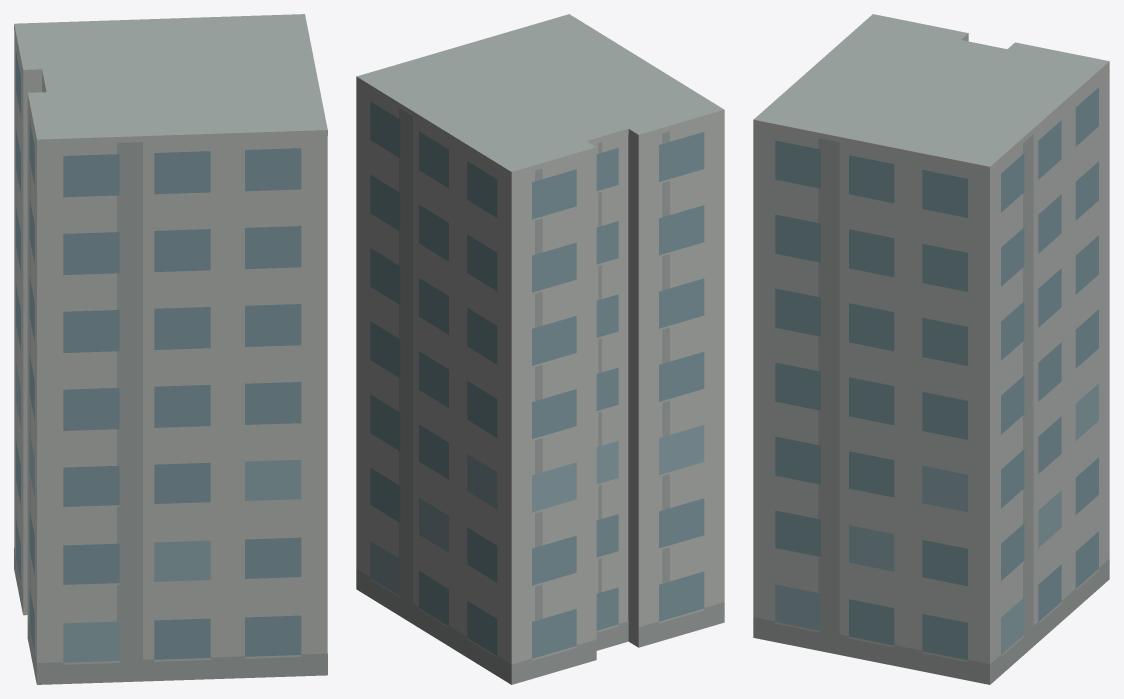
The model's file is survey-upis-32638779.glb.
3 views of the same model, side by side, from view 1: azimuth 30°, elevation 25°; view 2: azimuth 150°, elevation 25°; view 3: azimuth 270°, elevation 25° (orthographic). The views are drawn at different scales.
Visible parts, largest first — view 1: survey-upis-32638779.tmp; view 2: survey-upis-32638779.tmp; view 3: survey-upis-32638779.tmp.
Boxes of the visible parts, left/top/right/bottom form: survey-upis-32638779.tmp: left=14, top=14, right=327, bottom=684; survey-upis-32638779.tmp: left=356, top=14, right=724, bottom=684; survey-upis-32638779.tmp: left=753, top=14, right=1109, bottom=684.
Size of the model in its own units: 14.37 by 22.7 by 14.16.
